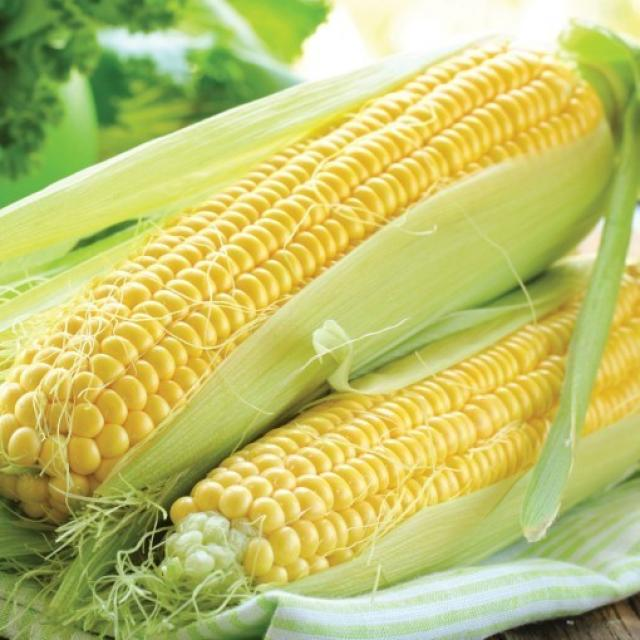corn: (0, 37, 610, 504), (156, 237, 640, 614)
